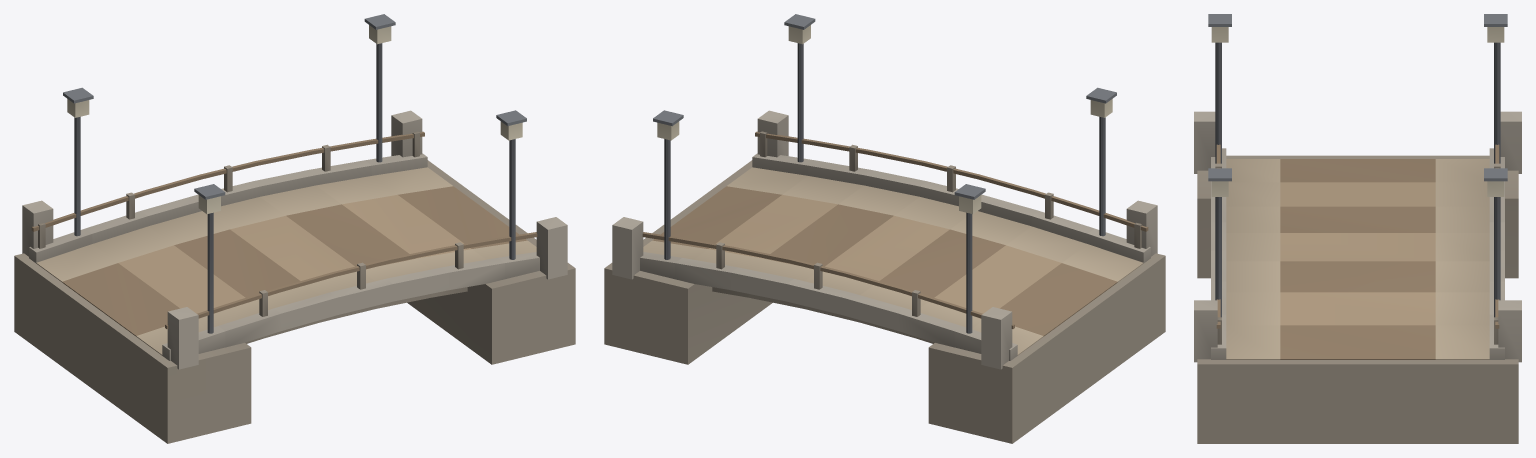
Rendered from bridge_river_wide_low.glb.
The picture shows the model from 3 angles, left to right: view 1: azimuth 30°, elevation 25°; view 2: azimuth 150°, elevation 25°; view 3: azimuth 270°, elevation 25°; orthographic projection. The views are drawn at different scales.
Bounding box in the file's own units: 14.6 × 7.95 × 9.7.
